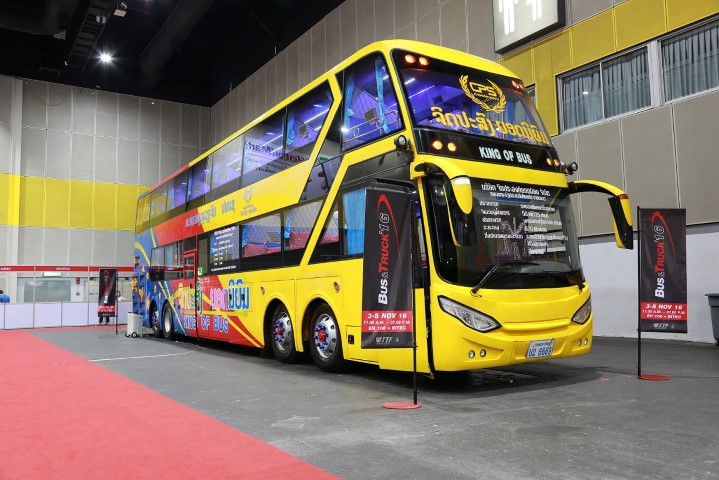bus: (127, 37, 594, 380)
